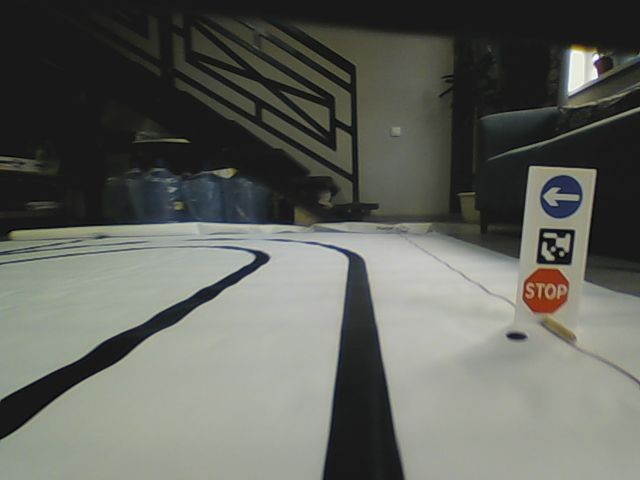Stop: (520, 267, 572, 316)
